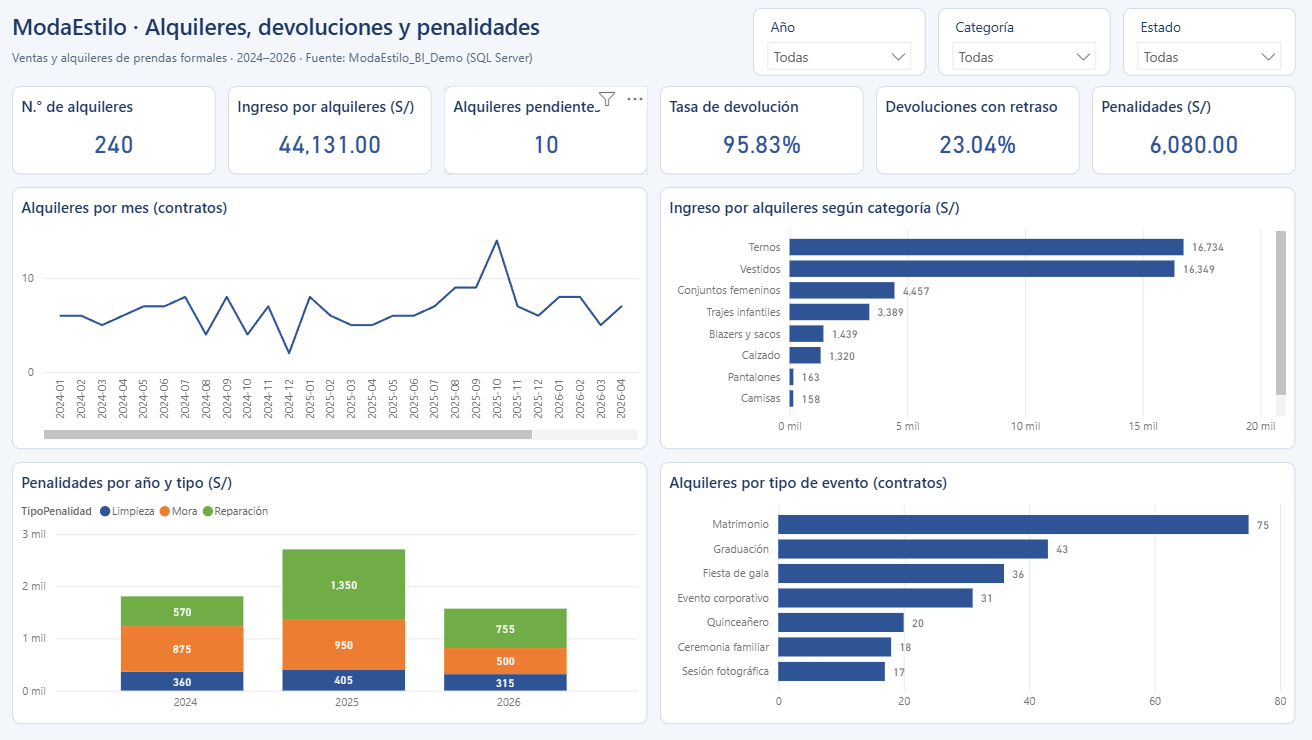

What the dashboard file says about the page in this screenshot:
{"tool":"powerbi","page":{"name":"Alquileres y penalidades","canvas":[1280,720],"ordinal":2},"visuals":[{"type":"textbox","box":[16,10,720,36],"z":1000},{"type":"textbox","box":[16,46,720,22],"z":2000},{"type":"slicer","fields":{"Values":["DimFecha.Anio"]},"box":[736,8,168,66],"z":3000},{"type":"slicer","fields":{"Values":["DimArticulo.Categoria"]},"box":[916,8,168,66],"z":4000},{"type":"slicer","fields":{"Values":["FactAlquiler.EstadoAlquiler"]},"box":[1096,8,168,66],"z":5000},{"type":"card","title":"N.° de alquileres","fields":{"Values":["FactAlquiler.Número de Alquileres"]},"box":[16,84,198,86],"z":6000},{"type":"card","title":"Ingreso por alquileres (S/)","fields":{"Values":["FactAlquiler.Ingreso Alquileres"]},"box":[226,84,198,86],"z":7000},{"type":"card","title":"Alquileres pendientes","fields":{"Values":["FactAlquiler.Alquileres Pendientes"]},"box":[436,84,198,86],"z":8000},{"type":"card","title":"Tasa de devolución","fields":{"Values":["FactAlquiler.Tasa de Devolución"]},"box":[646,84,198,86],"z":9000},{"type":"card","title":"Devoluciones con retraso","fields":{"Values":["FactAlquiler.% Devoluciones con Retraso"]},"box":[856,84,198,86],"z":10000},{"type":"card","title":"Penalidades (S/)","fields":{"Values":["FactPenalidad.Monto Penalidades"]},"box":[1066,84,198,86],"z":11000},{"type":"lineChart","title":"Alquileres por mes (contratos)","fields":{"Category":["DimFecha.AnioMes"],"Y":["FactAlquiler.Número de Alquileres"]},"box":[16,182,618,255],"z":12000},{"type":"clusteredBarChart","title":"Ingreso por alquileres según categoría (S/)","fields":{"Category":["DimArticulo.Categoria"],"Y":["FactAlquiler.Ingreso Alquileres"]},"box":[646,182,618,255],"z":13000},{"type":"columnChart","title":"Penalidades por año y tipo (S/)","fields":{"Category":["DimFecha.Anio"],"Y":["FactPenalidad.Monto Penalidades"],"Series":["FactPenalidad.TipoPenalidad"]},"box":[16,449,618,255],"z":14000},{"type":"clusteredBarChart","title":"Alquileres por tipo de evento (contratos)","fields":{"Category":["FactAlquiler.TipoEvento"],"Y":["FactAlquiler.Número de Alquileres"]},"box":[646,449,618,255],"z":15000}]}

Visuals, with their boxes in screenshot pixels (x1, y1, x2, y2), scaled from the page's 1280x720 canvas onto the 1312x740 screenshot:
textbox: locate(16, 10, 754, 47)
textbox: locate(16, 47, 754, 70)
slicer - DimFecha.Anio: locate(754, 8, 927, 76)
slicer - DimArticulo.Categoria: locate(939, 8, 1111, 76)
slicer - FactAlquiler.EstadoAlquiler: locate(1123, 8, 1296, 76)
"N.° de alquileres" card: locate(16, 86, 219, 175)
"Ingreso por alquileres (S/)" card: locate(232, 86, 435, 175)
"Alquileres pendientes" card: locate(447, 86, 650, 175)
"Tasa de devolución" card: locate(662, 86, 865, 175)
"Devoluciones con retraso" card: locate(877, 86, 1080, 175)
"Penalidades (S/)" card: locate(1093, 86, 1296, 175)
"Alquileres por mes (contratos)" lineChart: locate(16, 187, 650, 449)
"Ingreso por alquileres según categoría (S/)" clusteredBarChart: locate(662, 187, 1296, 449)
"Penalidades por año y tipo (S/)" columnChart: locate(16, 461, 650, 724)
"Alquileres por tipo de evento (contratos)" clusteredBarChart: locate(662, 461, 1296, 724)
